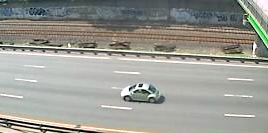car: (119, 81, 163, 105)
